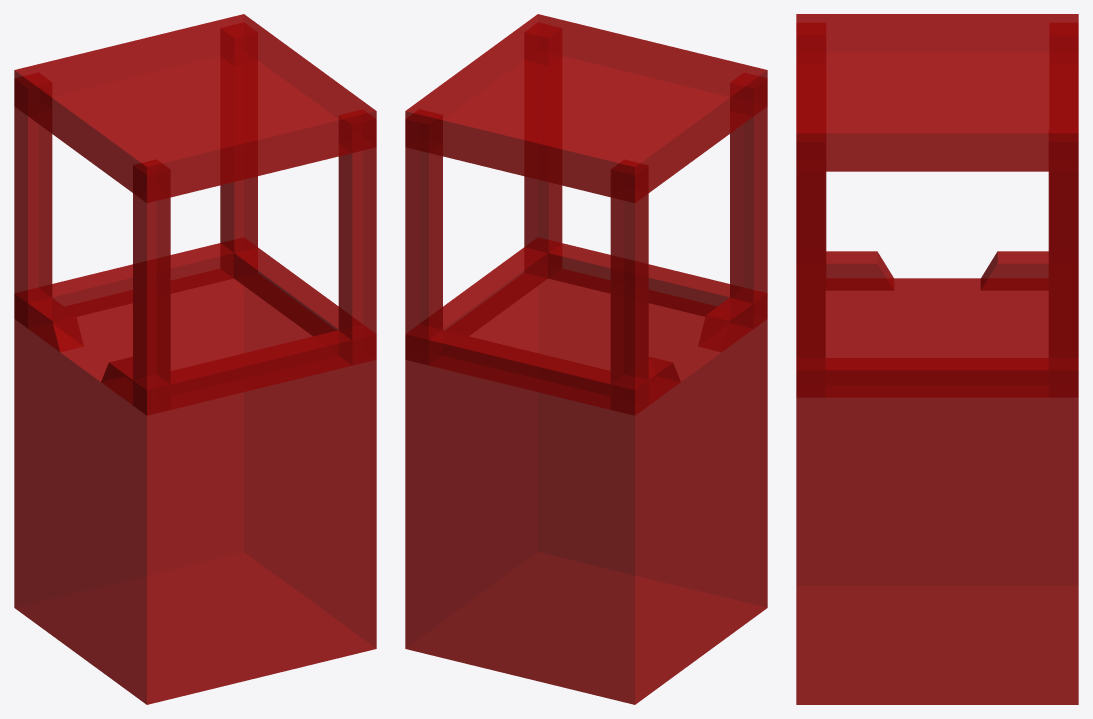
File: SM_Bld_Village_Village_House_Tower_01_Collision.fbx
The picture shows the model from 3 angles, left to right: view 1: azimuth 30°, elevation 25°; view 2: azimuth 150°, elevation 25°; view 3: azimuth 270°, elevation 25°; orthographic projection. The views are drawn at different scales.
Visible parts, largest first — view 1: SM_Bld_Village_Village_House_Tower_01_Collision; view 2: SM_Bld_Village_Village_House_Tower_01_Collision; view 3: SM_Bld_Village_Village_House_Tower_01_Collision.
Part boxes in pixels (x1,y1,x2,y2): SM_Bld_Village_Village_House_Tower_01_Collision: (14, 14, 376, 704); SM_Bld_Village_Village_House_Tower_01_Collision: (405, 14, 767, 704); SM_Bld_Village_Village_House_Tower_01_Collision: (796, 14, 1078, 704).
Bounding box in the file's own units: 245 × 547 × 245.
